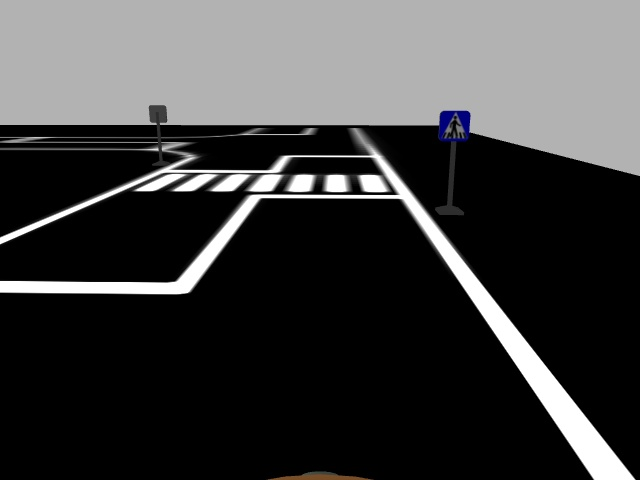crosswalk: (436, 108, 472, 143)
